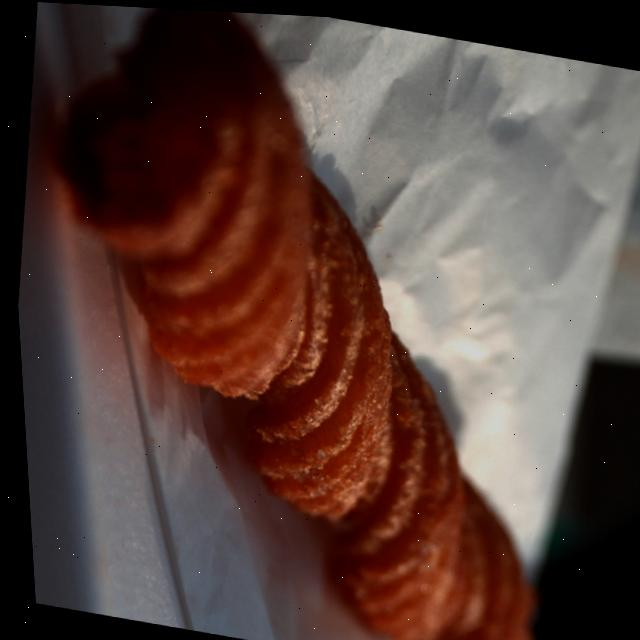炸货点心: (0, 0, 629, 640)
